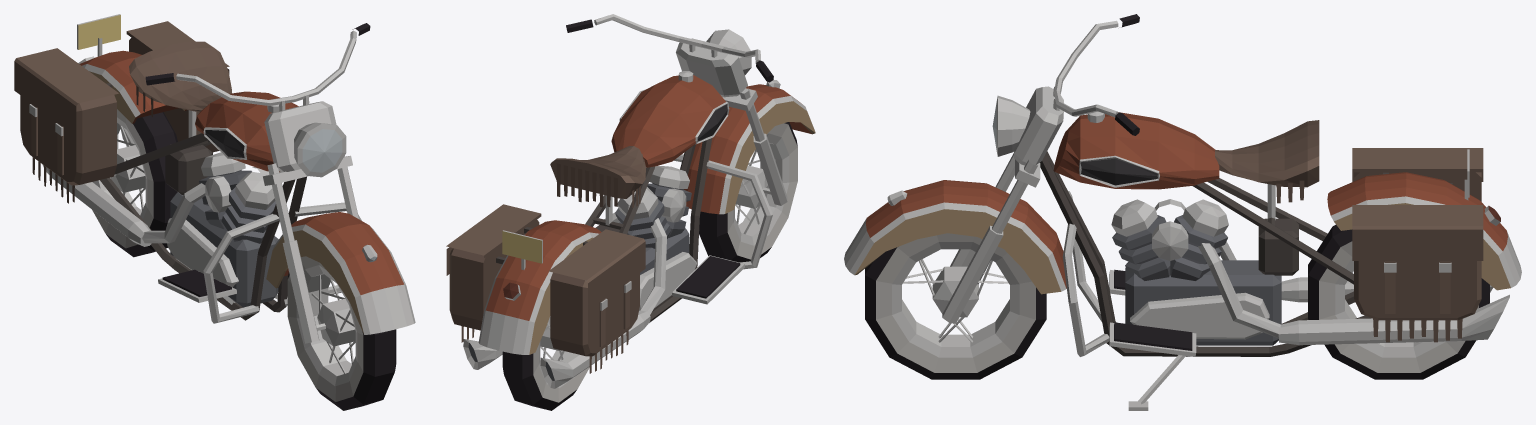
The model's file is touring-motorcycle-3b1ad3.glb.
3 renders of one model, left to right at view 1: azimuth 30°, elevation 25°; view 2: azimuth 150°, elevation 25°; view 3: azimuth 270°, elevation 25°, orthographic. The views are drawn at different scales.
Parts seen in each view (by area): view 1: touring-motorcycle-3b1ad3; view 2: touring-motorcycle-3b1ad3; view 3: touring-motorcycle-3b1ad3.
Boxes of the visible parts, x1,y1,x2,y2 form: touring-motorcycle-3b1ad3: (14, 14, 415, 410); touring-motorcycle-3b1ad3: (446, 14, 815, 410); touring-motorcycle-3b1ad3: (844, 14, 1521, 410).
Size of the model in its own units: 0.9446 by 1.18 by 2.34.
